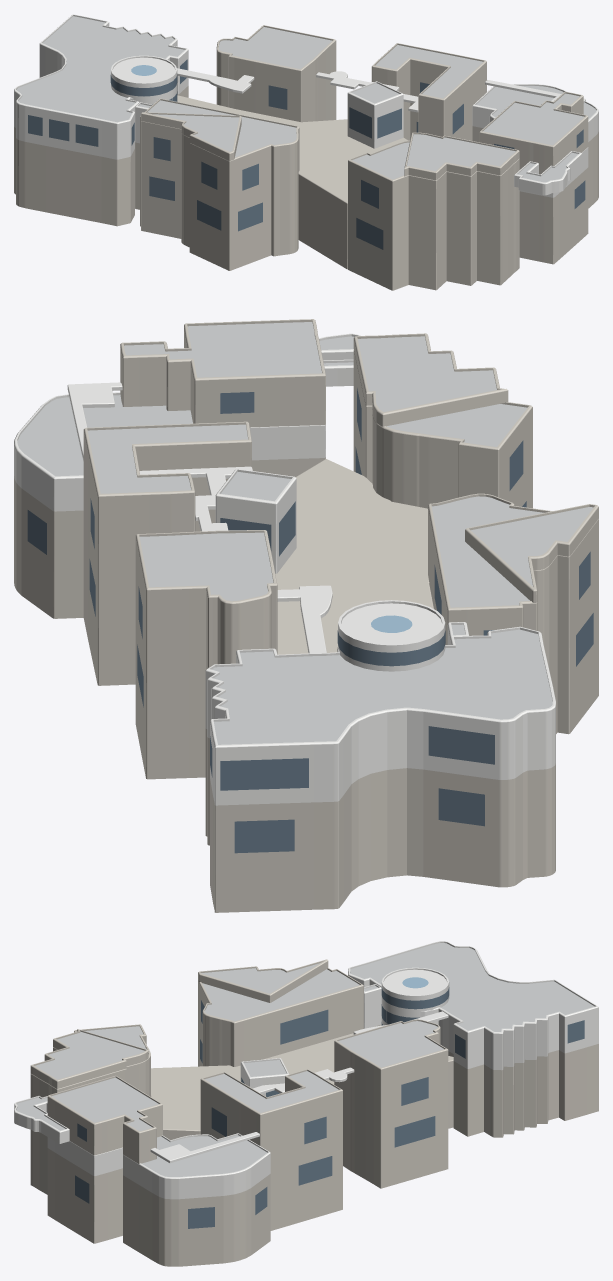
File: detail.glb
The picture shows the model from 3 angles, top to bottom: view 1: azimuth 30°, elevation 25°; view 2: azimuth 150°, elevation 25°; view 3: azimuth 270°, elevation 25°; orthographic projection. The views are drawn at different scales.
Visible parts, largest first — view 1: getty-center; view 2: getty-center; view 3: getty-center.
Boxes of the visible parts, left/top/right/bottom form: getty-center: left=14, top=14, right=598, bottom=290; getty-center: left=14, top=319, right=598, bottom=912; getty-center: left=14, top=941, right=598, bottom=1266.
Size of the model in its own units: 178 by 45.1 by 199.
